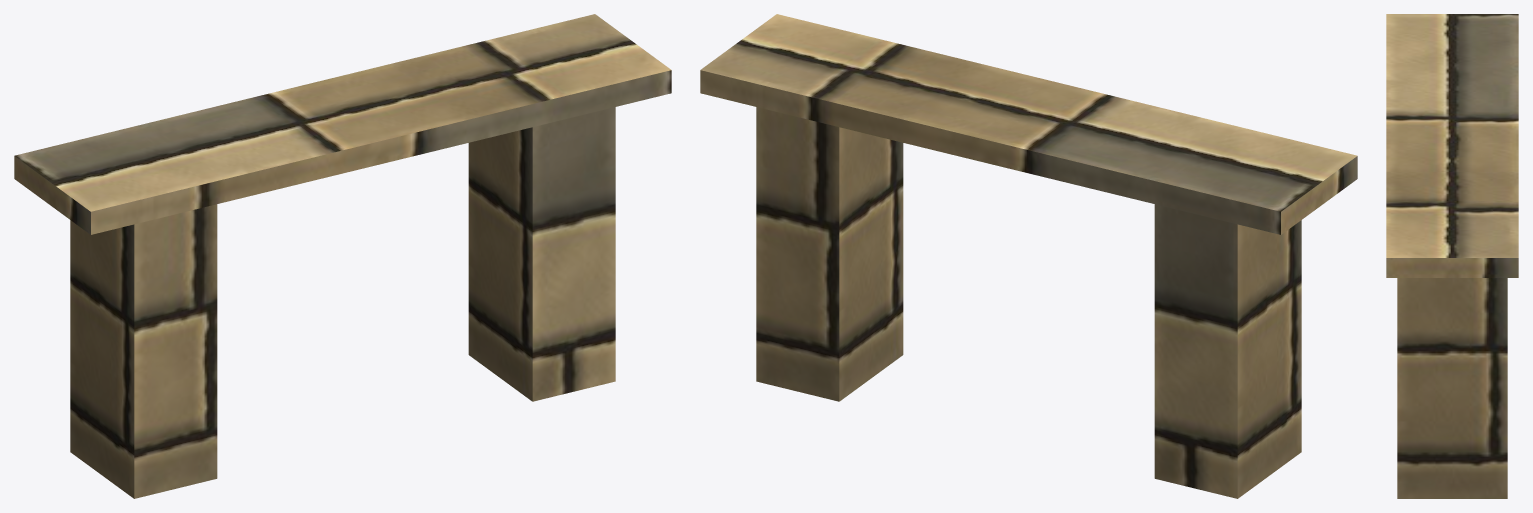
The model's file is bench.glb.
3 renders of one model, left to right at view 1: azimuth 30°, elevation 25°; view 2: azimuth 150°, elevation 25°; view 3: azimuth 270°, elevation 25°, orthographic. The views are drawn at different scales.
Visible parts, largest first — view 1: props_0_0; view 2: props_0_0; view 3: props_0_0.
Part boxes in pixels (<box>): props_0_0: <box>14,14,671,498</box>; props_0_0: <box>700,14,1357,498</box>; props_0_0: <box>1386,14,1518,498</box>.
Size of the model in its own units: 2.1 by 1.05 by 0.48.
1 material, 1 textured.
